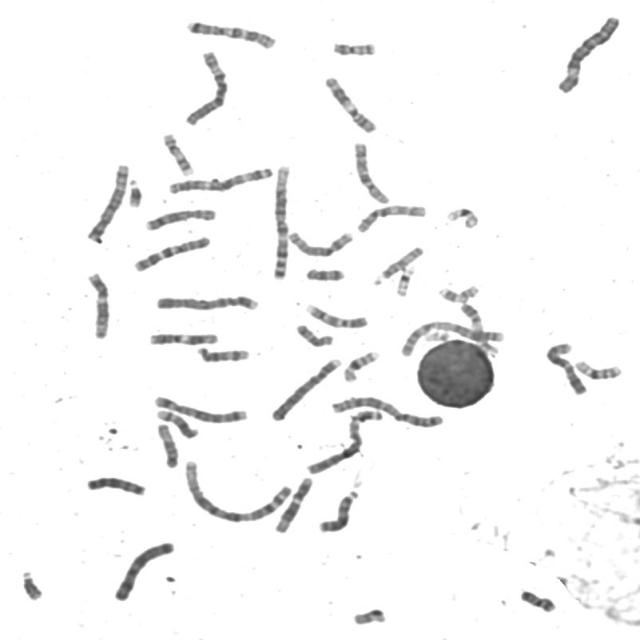A1: (180, 456, 295, 524), (269, 160, 294, 280)
A2: (396, 317, 512, 360), (328, 392, 447, 429)
A3: (303, 405, 385, 476), (164, 162, 277, 195)
B4: (266, 353, 344, 423), (153, 291, 261, 313)
B5: (83, 159, 132, 243), (150, 392, 250, 424)
C10: (349, 137, 392, 205), (352, 201, 429, 234)
C11: (322, 72, 381, 135), (145, 329, 221, 347)
C12: (271, 473, 315, 534), (83, 268, 113, 340)
C6: (554, 11, 622, 94), (180, 46, 231, 126)
C7: (130, 232, 214, 273), (181, 16, 279, 50)
C8: (284, 227, 356, 258), (142, 204, 219, 232)
C9: (456, 300, 500, 356), (302, 299, 371, 330)
D13: (315, 486, 361, 534), (82, 472, 149, 498)
D14: (154, 405, 200, 440), (194, 343, 252, 363)
D15: (369, 242, 427, 286), (154, 420, 182, 470)
E16: (339, 347, 382, 384), (570, 355, 625, 381)
E17: (159, 130, 197, 178), (434, 281, 482, 304)
E18: (292, 320, 336, 348), (302, 264, 347, 283)
F19: (442, 203, 482, 229), (416, 327, 456, 348)
F20: (518, 588, 558, 615), (328, 37, 379, 57)
G21: (16, 566, 46, 602), (124, 175, 144, 209)
G22: (392, 263, 417, 298), (351, 606, 391, 626)
X: (109, 536, 177, 603), (542, 338, 590, 396)
